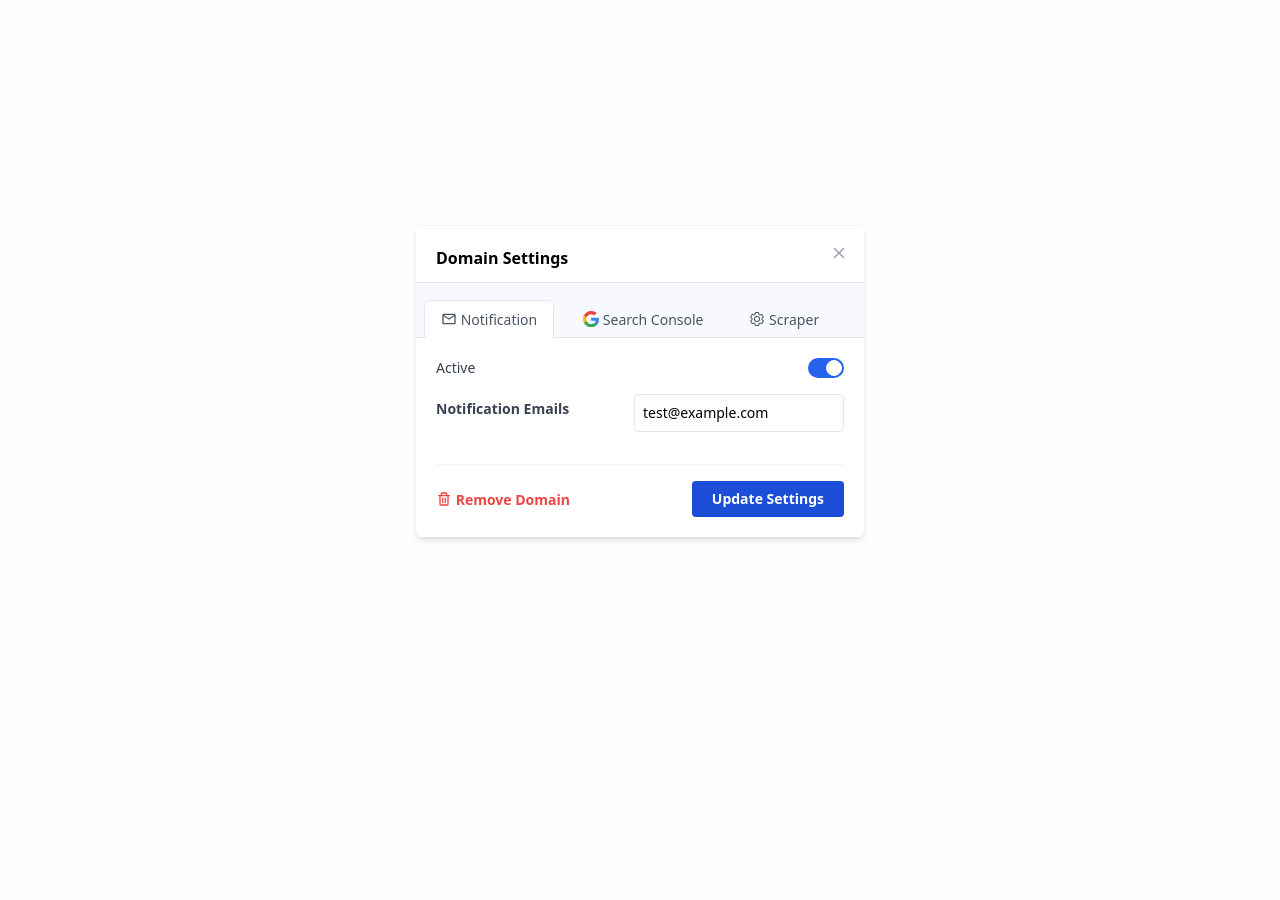
DomainSettings Component › renders the scraper tab and toggles API key enablement based on selection
Click the list item "Scraper" at (784, 320), box [750, 310, 819, 329]
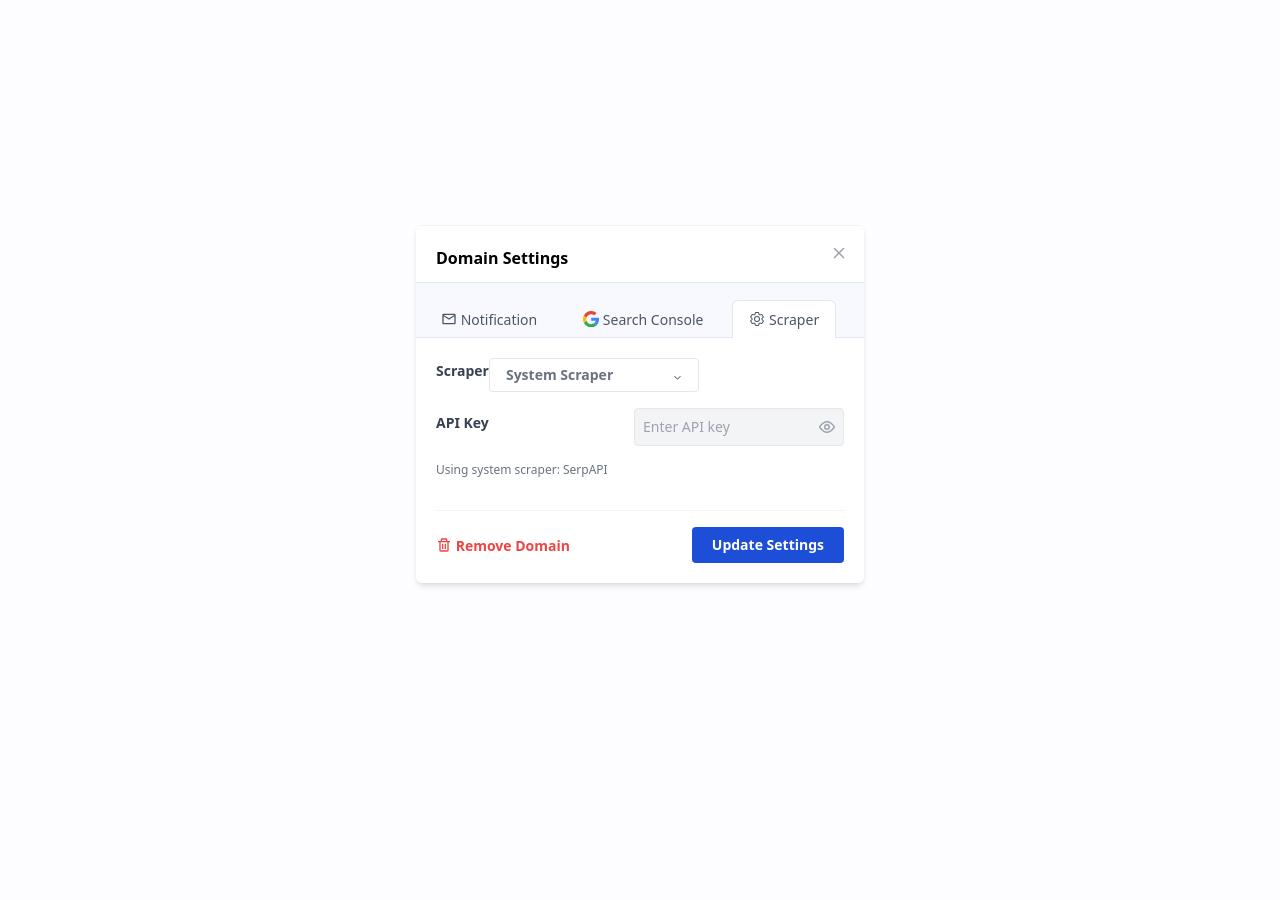
Now the password field with placeholder "Enter API key" is disabled, box [634, 408, 844, 446]
Click the text "System Scraper" at (560, 375), box [506, 365, 613, 384]
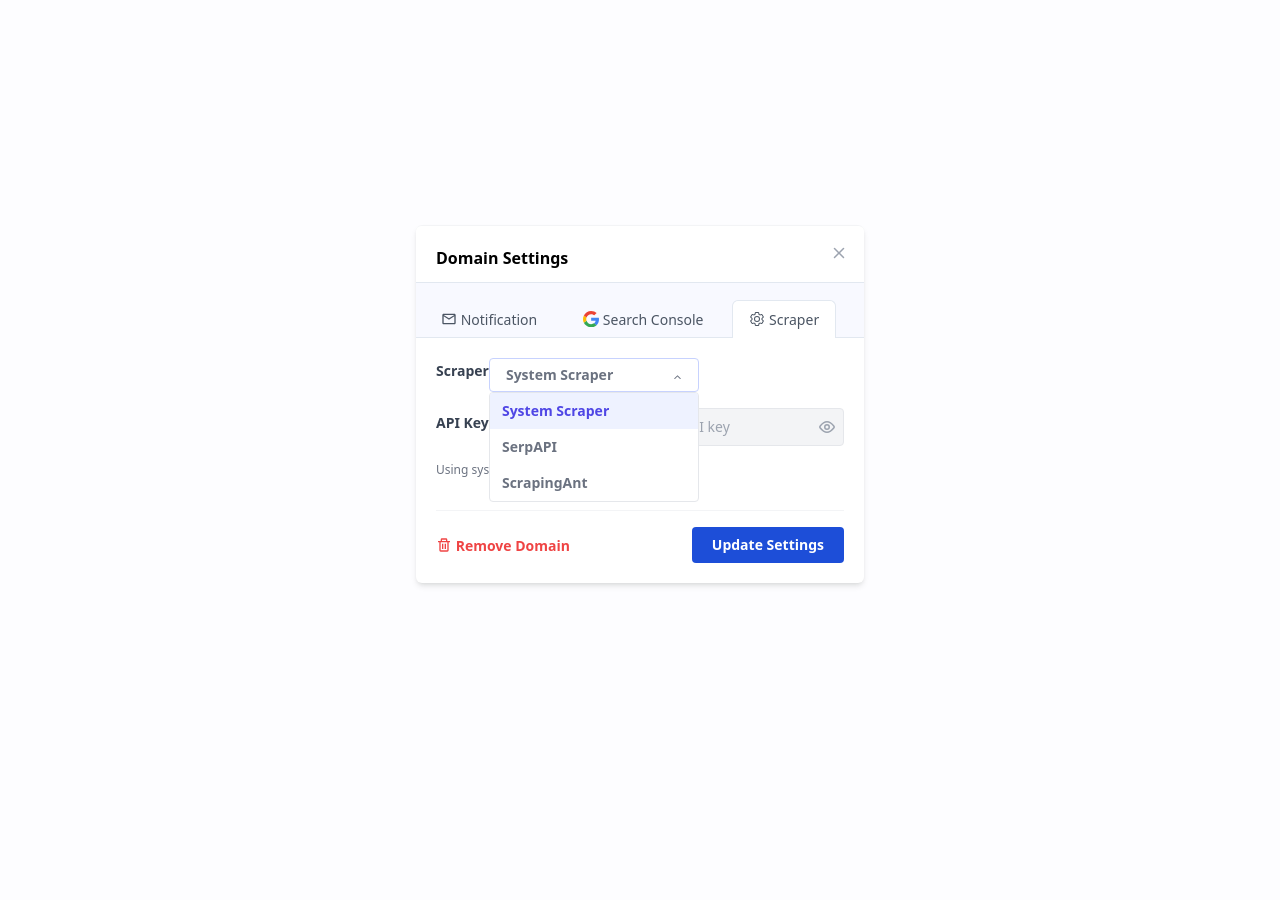
Click the list item "SerpAPI" at (529, 447), box [502, 437, 557, 456]
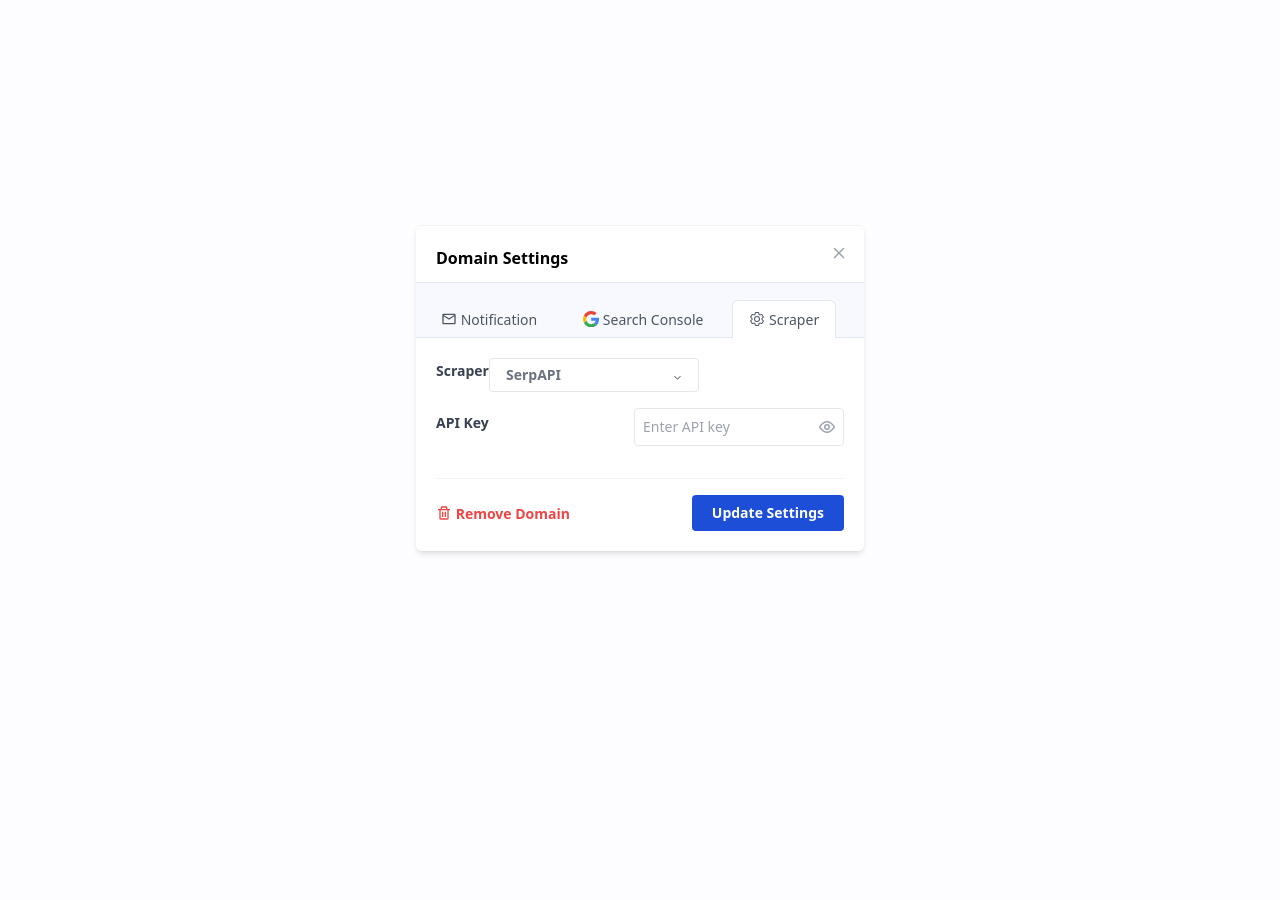
Now the password field with placeholder "Enter API key" is enabled, box [634, 408, 844, 446]
